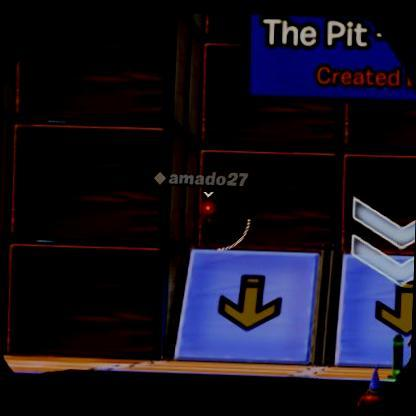person: (196, 198, 221, 250)
